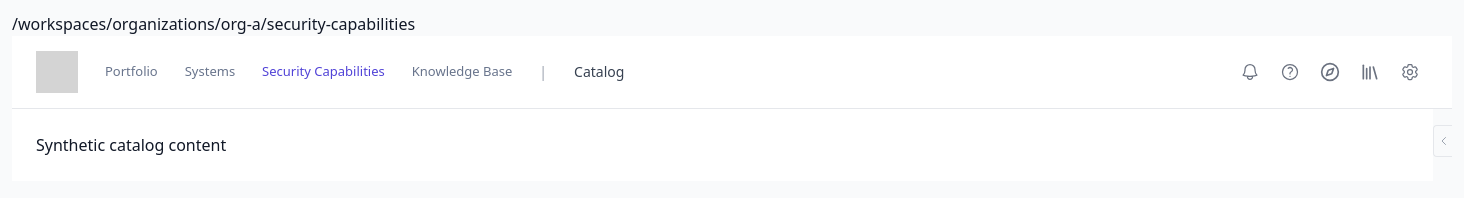
authorization-led provider navigation › keeps the system follow-up panel collapsed until explicitly expanded
Expected: the text "System follow-up tasks" is not shown
Click the button named "Expand panel". click: (1442, 141)
box: x1=1433 y1=125 x2=1452 y2=157
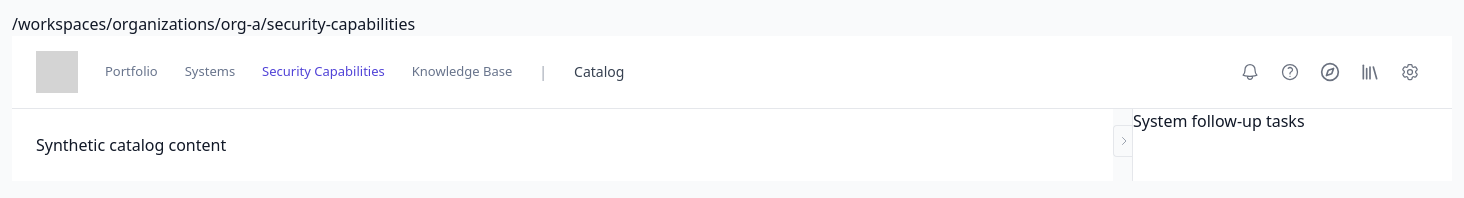
Expected: the text "System follow-up tasks" is shown, x1=1133 y1=110 x2=1305 y2=132
